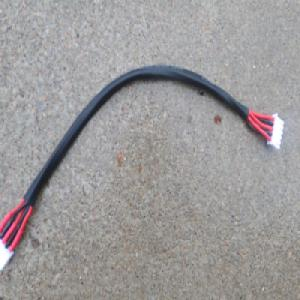Wire: (0, 64, 287, 274)
